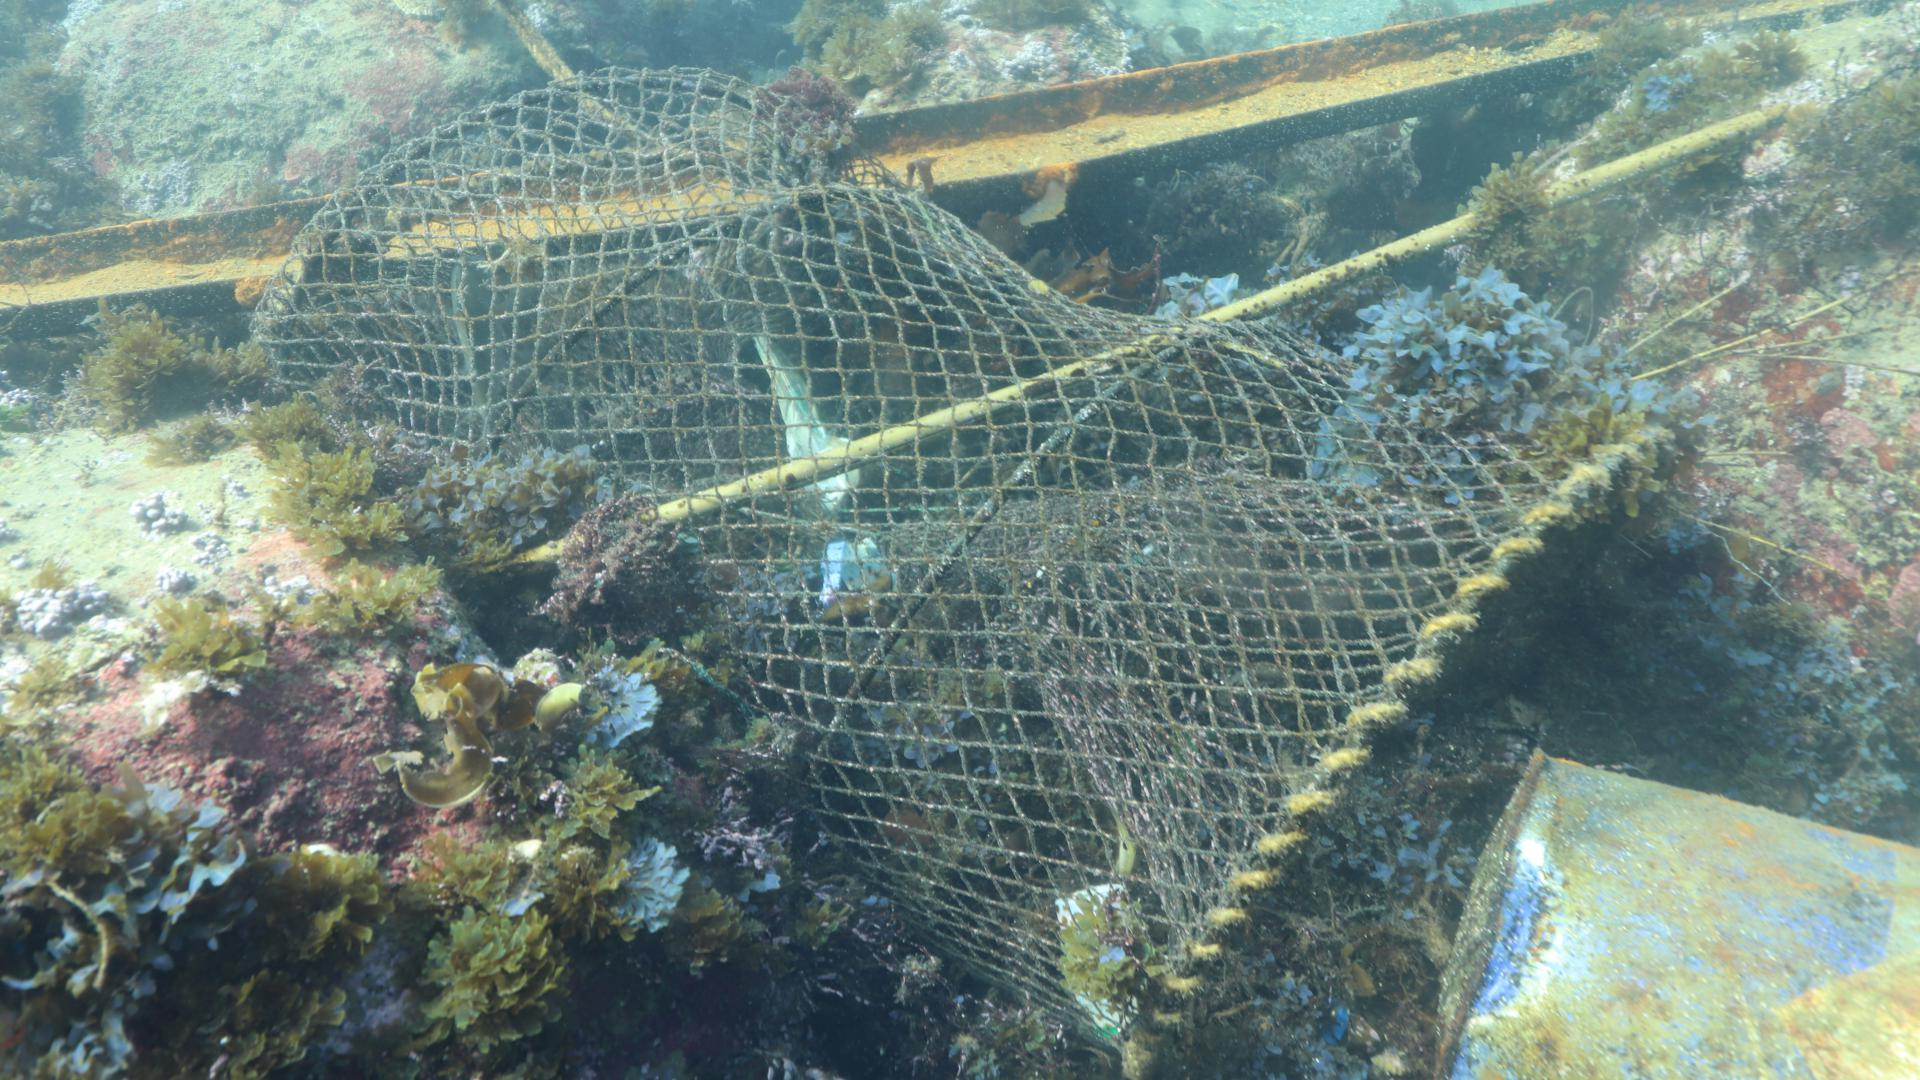spring fish trap: (245, 62, 1677, 1080)
